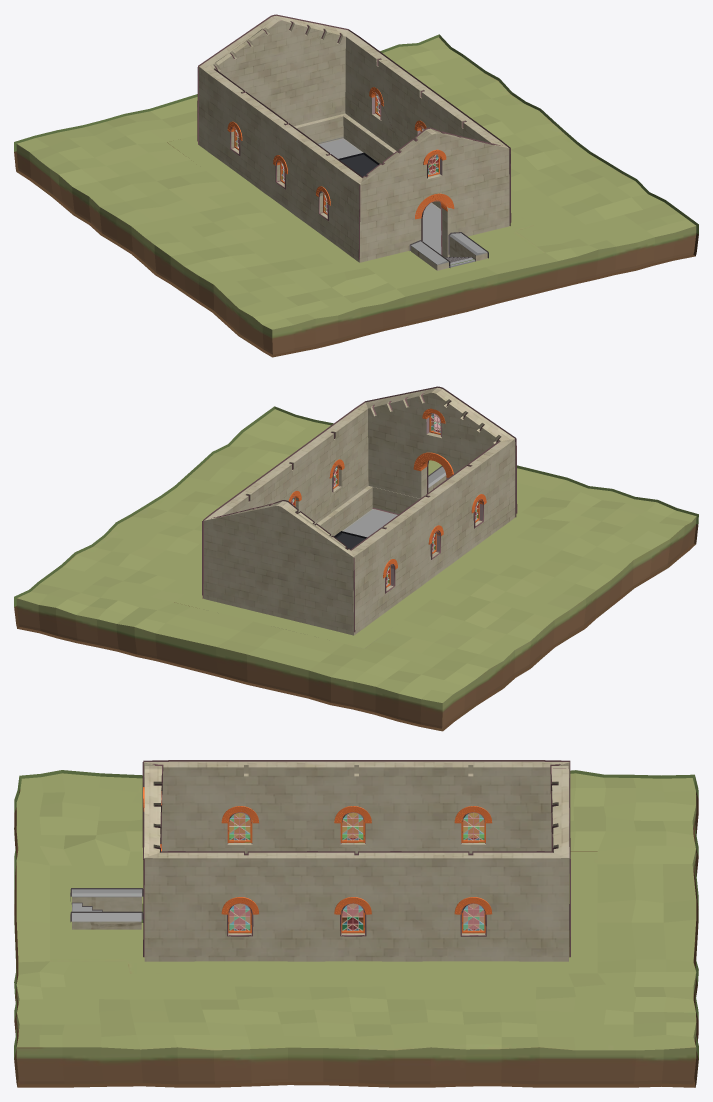
File: Mausolée_Seclin_V2.glb
3 renders of one model, top to bottom at view 1: azimuth 30°, elevation 25°; view 2: azimuth 150°, elevation 25°; view 3: azimuth 270°, elevation 25°, orthographic. The views are drawn at different scales.
Parts seen in each view (by area): view 1: Mausolée, Tombe; view 2: Mausolée; view 3: Mausolée, Fenetres.
Part boxes in pixels (x1,y1,x2,y2): Mausolée: (14,14,698,357); Tombe: (338,152,379,176); Mausolée: (14,386,698,731); Mausolée: (14,760,698,1087); Fenetres: (229,813,483,930).
Bounding box in the file's own units: 8.7 × 2.71 × 9.11.
3 materials, 3 textured.
